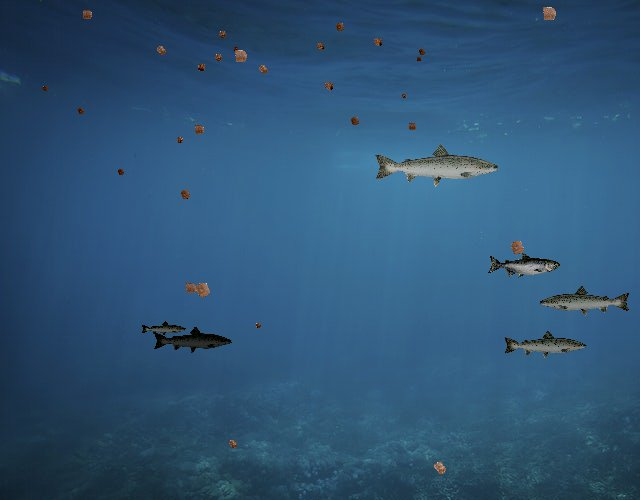Fish: (372, 142, 501, 188), (539, 284, 633, 318), (502, 329, 588, 360), (152, 326, 233, 355), (488, 253, 561, 279), (141, 320, 188, 337)
Pellet: (188, 274, 218, 304), (426, 455, 453, 482), (179, 277, 202, 300), (368, 33, 387, 52), (224, 435, 242, 453), (172, 133, 187, 148), (114, 165, 128, 179), (252, 320, 264, 332)
